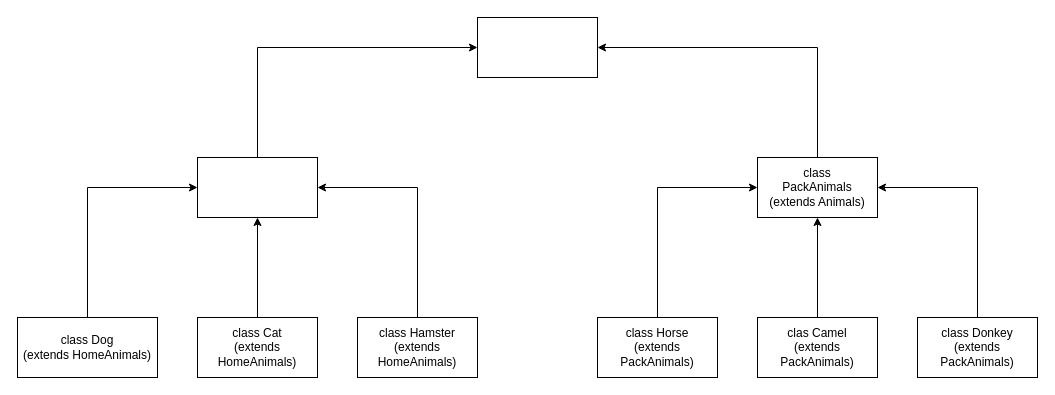
Some shapes in this 1055 by 395 pixel diagram are drawn without their labels. The shapes that lost their labels are listed below. From the top down, each one's centre as x and y in pixels, then its label:
At (x=537, y=47): "class Animals".
At (x=257, y=187): "class HomeAnimals (extends Animals)".
